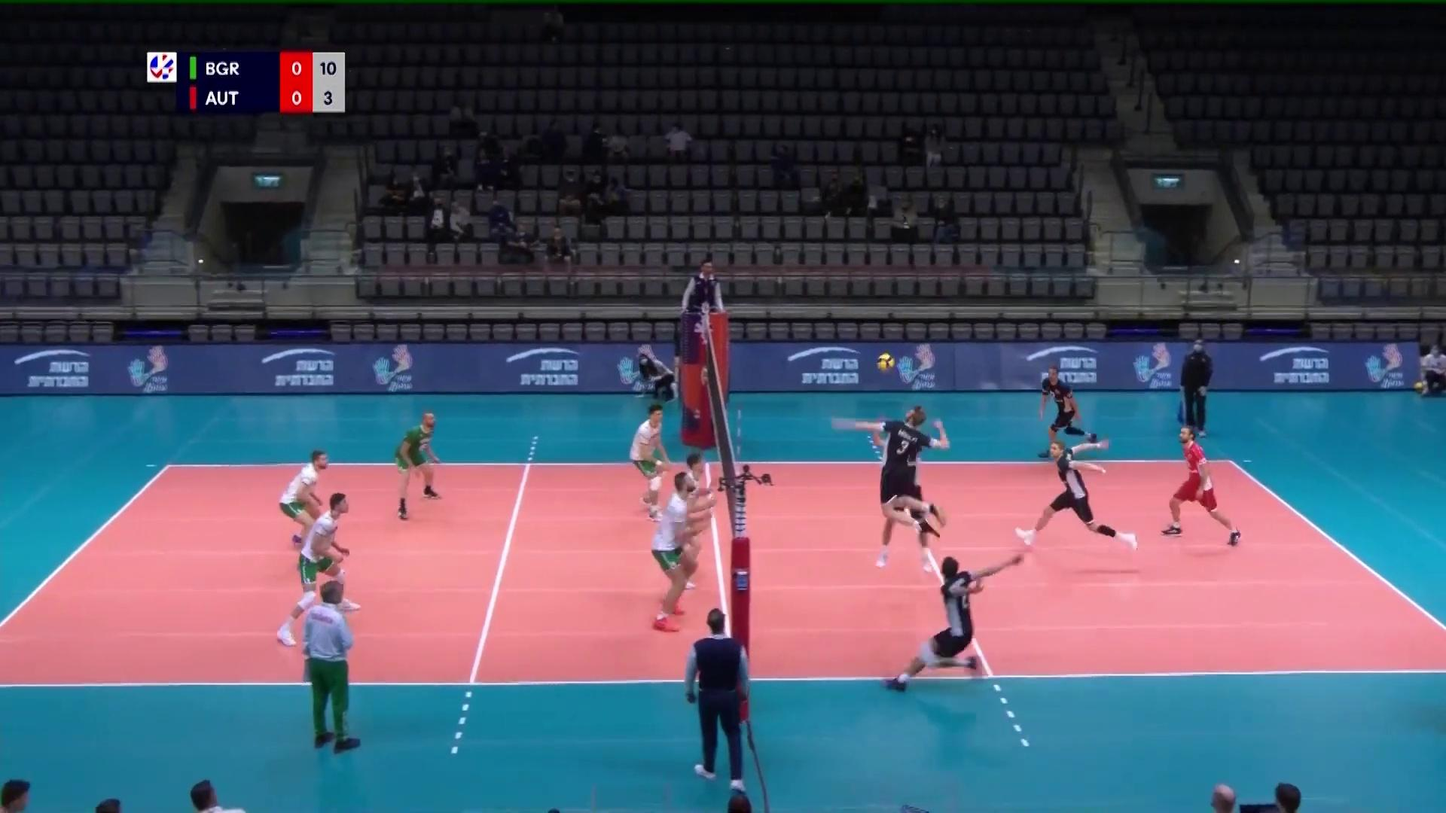ball: (875, 353, 896, 371)
